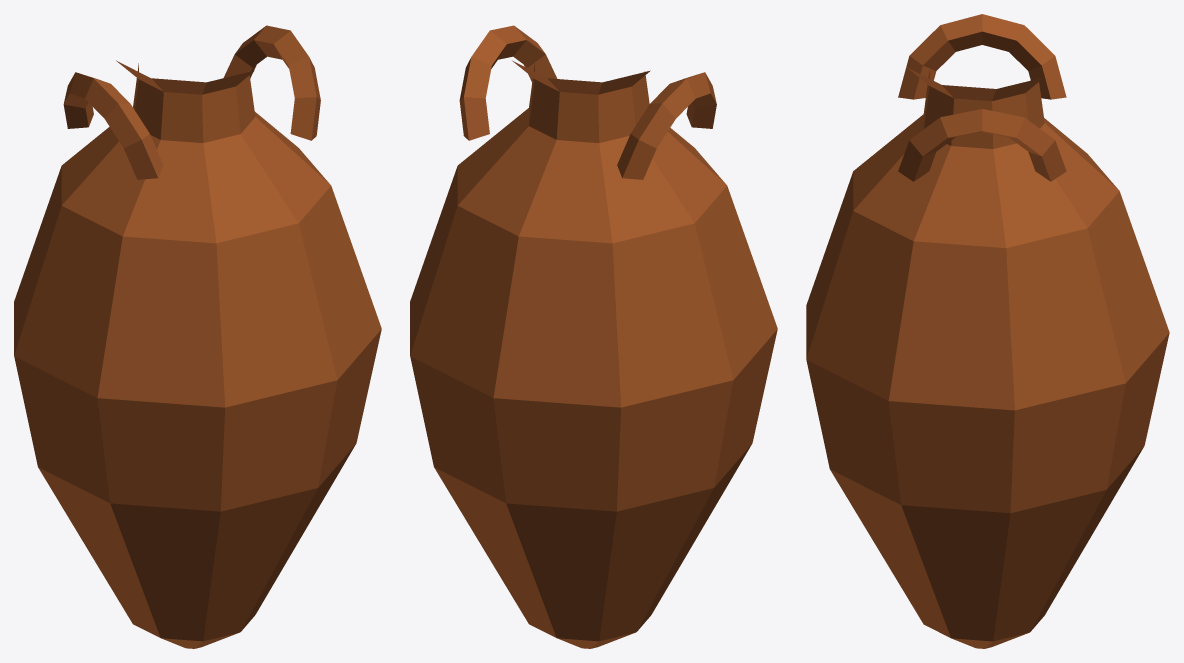
The model's file is amphora_terracotta.glb.
3 views of the same model, side by side, from view 1: azimuth 30°, elevation 25°; view 2: azimuth 150°, elevation 25°; view 3: azimuth 270°, elevation 25° (orthographic).
Visible parts, largest first — view 1: amphora_terracotta; view 2: amphora_terracotta; view 3: amphora_terracotta.
Boxes of the visible parts, bbox=[...] form: amphora_terracotta: bbox=[14, 25, 381, 648]; amphora_terracotta: bbox=[410, 25, 777, 648]; amphora_terracotta: bbox=[806, 14, 1169, 648].
Bounding box in the file's own units: 0.65 × 1.14 × 0.6401.
